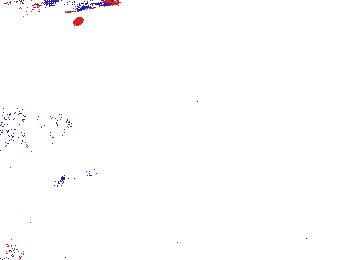X-ray fish: (1, 102, 84, 146), (192, 219, 248, 244)
red belly glassfish: (4, 1, 38, 12)
redtail glassfish: (36, 1, 121, 15)
